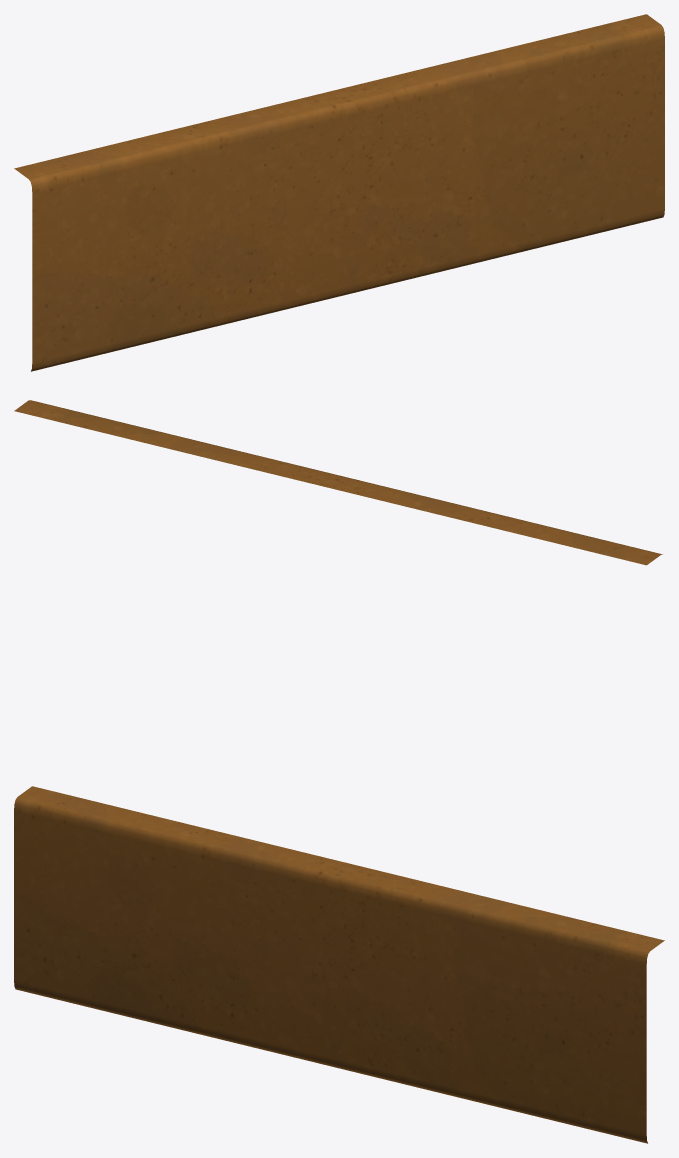
Rendered from SM_wall_panel_02.glb.
The picture shows the model from 3 angles, top to bottom: view 1: azimuth 30°, elevation 25°; view 2: azimuth 150°, elevation 25°; view 3: azimuth 330°, elevation 25°; orthographic projection.
Visible parts, largest first — view 1: SM_wall_panel_02; view 2: SM_wall_panel_02; view 3: SM_wall_panel_02.
Part boxes in pixels (x1=…): SM_wall_panel_02: x1=14, y1=14, x2=664, y2=371; SM_wall_panel_02: x1=14, y1=400, x2=662, y2=565; SM_wall_panel_02: x1=14, y1=786, x2=664, y2=1143.
Size of the model in its own units: 3 by 0.8716 by 0.15.
1 material, 1 textured.
